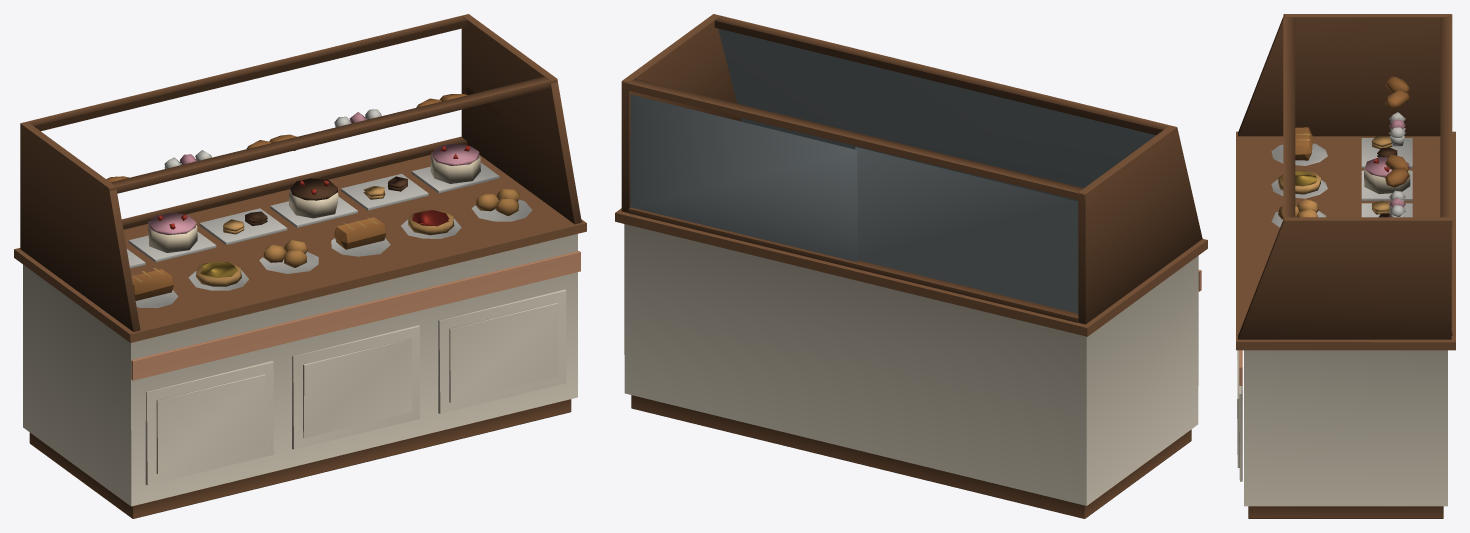
File: bakeryCase.far.glb
3 views of the same model, side by side, from view 1: azimuth 30°, elevation 25°; view 2: azimuth 150°, elevation 25°; view 3: azimuth 270°, elevation 25° (orthographic). The views are drawn at different scales.
Parts seen in each view (by area): view 1: bakeryCase_far; view 2: bakeryCase_far; view 3: bakeryCase_far.
Part boxes in pixels (bbox=[...]): bakeryCase_far: bbox=[14, 14, 586, 518]; bakeryCase_far: bbox=[615, 14, 1207, 518]; bakeryCase_far: bbox=[1236, 14, 1455, 518].
Bounding box in the file's own units: 1.93 × 1.29 × 0.8547.
